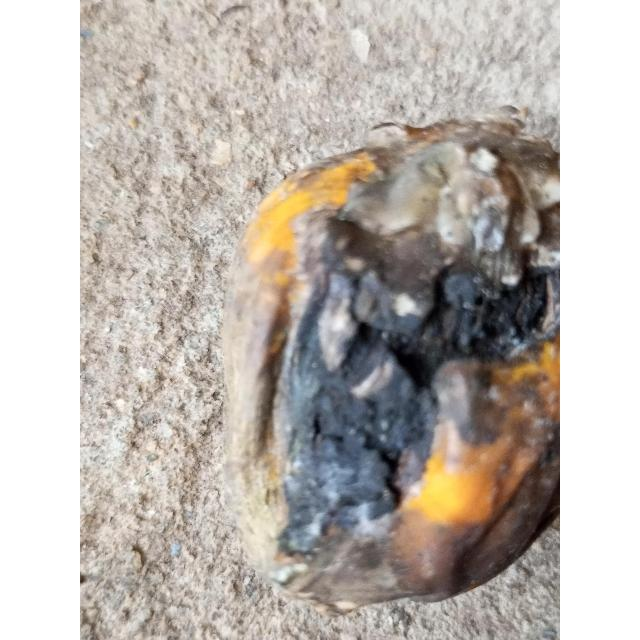damaged: (221, 106, 560, 617)
